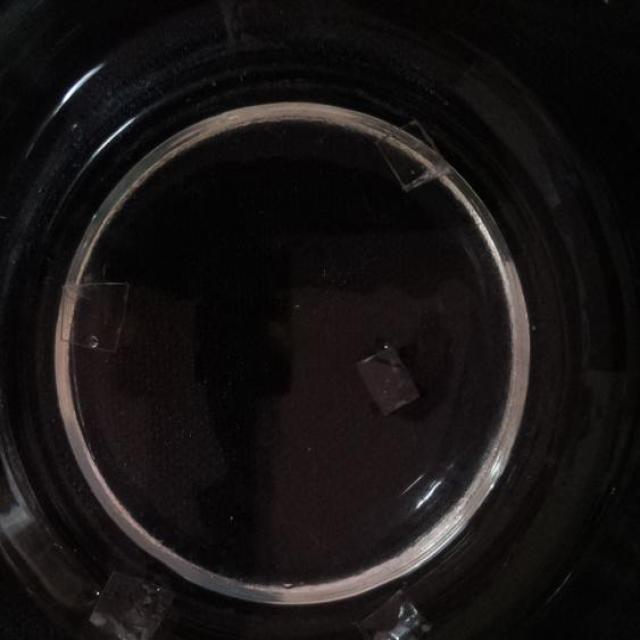fiber: (86, 570, 174, 640), (372, 121, 447, 190), (61, 277, 126, 353), (353, 589, 430, 640), (359, 344, 418, 410)
